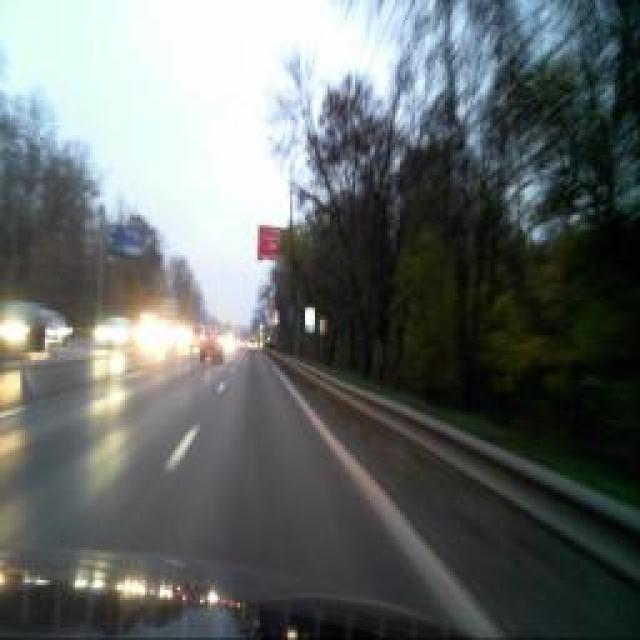sign: (319, 315, 329, 335)
